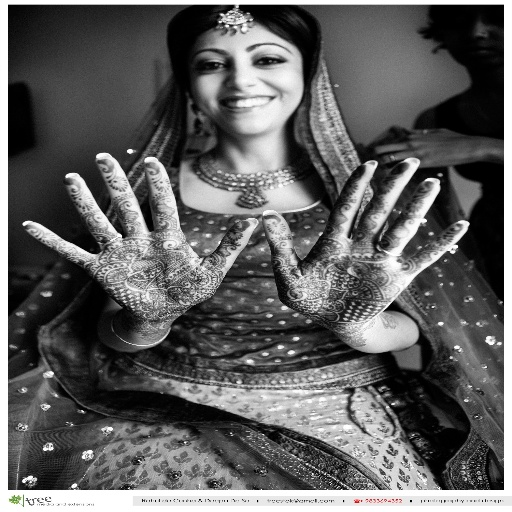hand: (21, 153, 258, 320), (261, 157, 468, 332), (373, 127, 483, 169)
